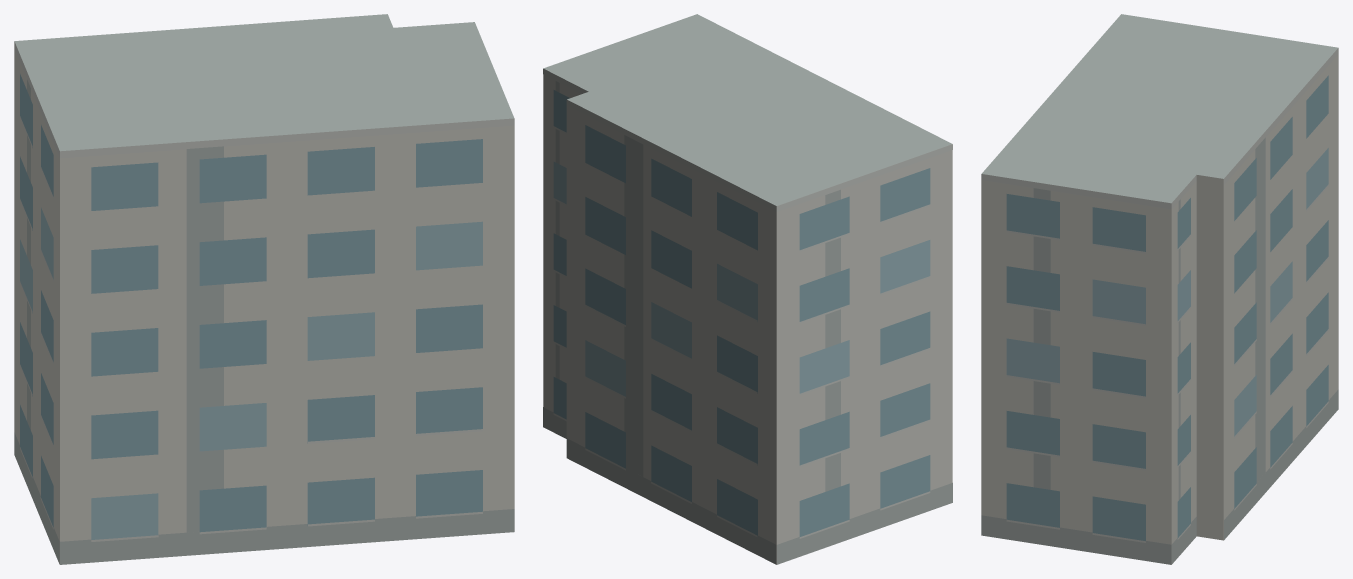
File: survey-upis-32913271.glb
The picture shows the model from 3 angles, left to right: view 1: azimuth 30°, elevation 25°; view 2: azimuth 150°, elevation 25°; view 3: azimuth 270°, elevation 25°; orthographic projection. The views are drawn at different scales.
Parts seen in each view (by area): view 1: survey-upis-32913271.tmp; view 2: survey-upis-32913271.tmp; view 3: survey-upis-32913271.tmp.
Boxes of the visible parts, box(x1,y1,x2,y2) form: survey-upis-32913271.tmp: box(14, 14, 514, 564); survey-upis-32913271.tmp: box(543, 14, 952, 564); survey-upis-32913271.tmp: box(981, 14, 1338, 564).
Bounding box in the file's own units: 16.23 × 14.45 × 12.94.
